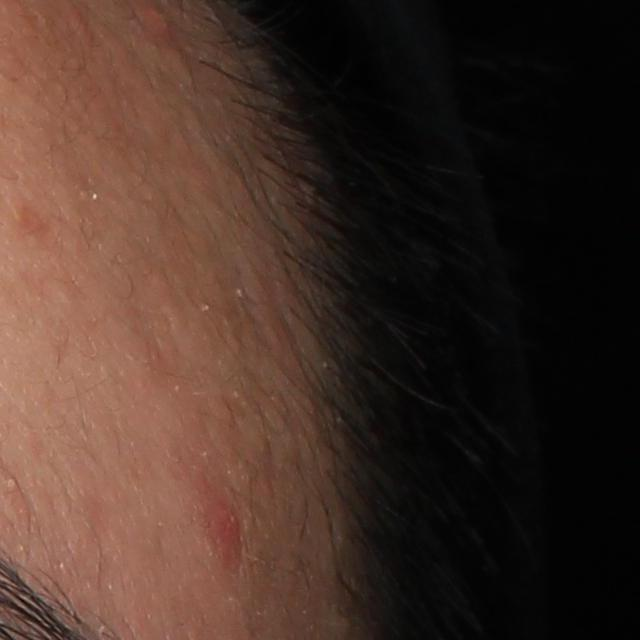papule: (202, 491, 244, 568), (139, 3, 171, 38)
